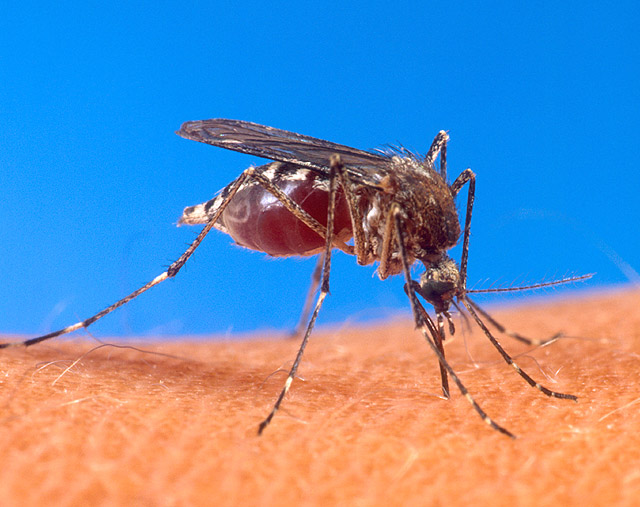mosquito: (22, 105, 608, 450)
